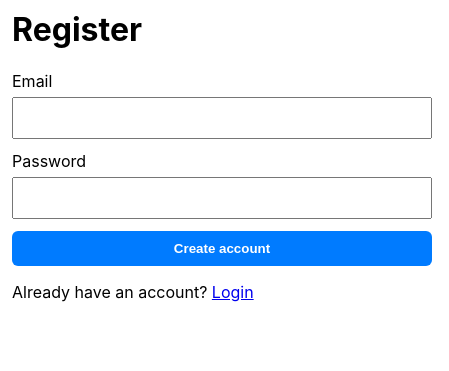
Test: Register page › submits successfully and shows success message
In the field labelled "Email": coordinates (222, 118) [12,97,432,139], type "a@b.com"
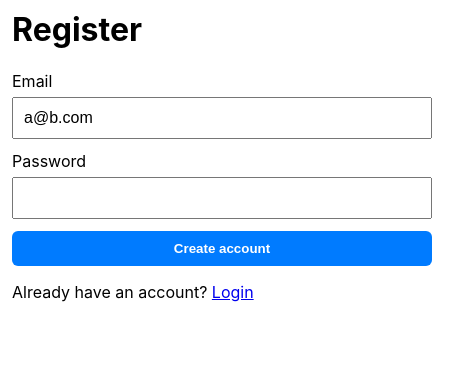
In the password field labelled "Password": coordinates (222, 198) [12,177,432,219], type "password123"
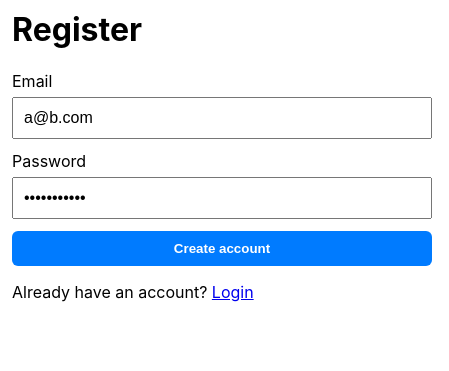
Click the button "Create account": coordinates (222, 248) [12,231,432,266]
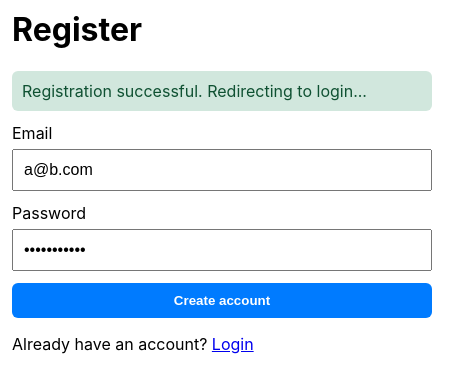
Expected: the message shows "Registration successful", [22,81,367,101]
